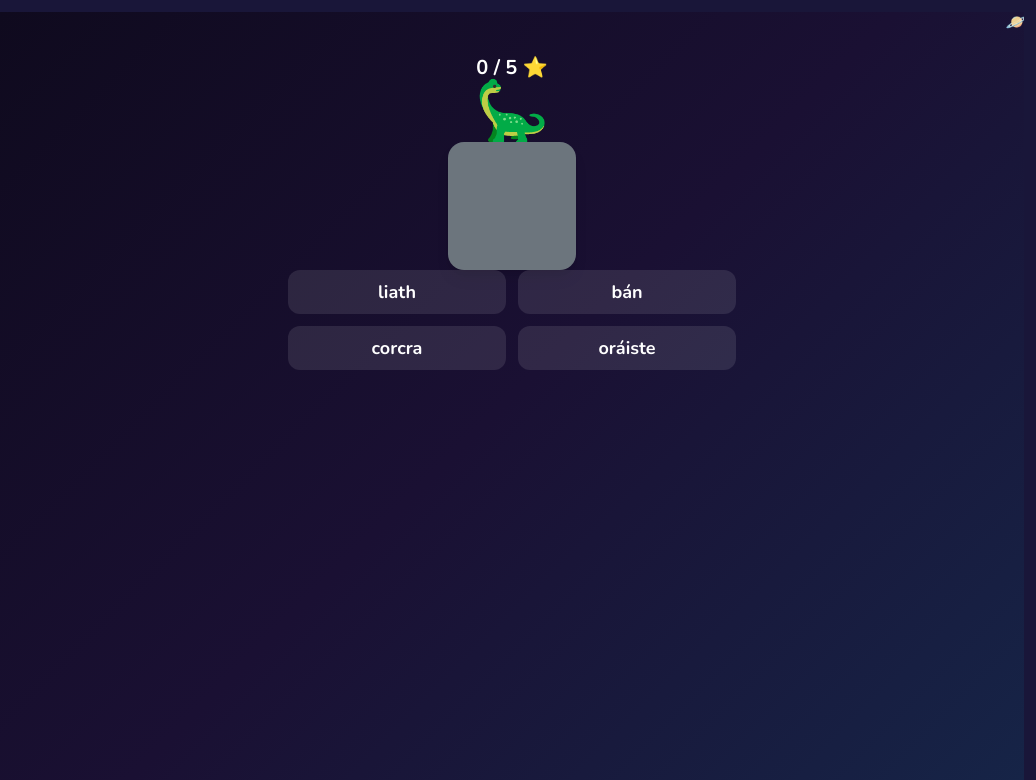
Test case: ColorMatch › Gameplay - wrong answer › shows "Triail arís!" when wrong answer is selected
Click the button "bán": point(627, 292) [518, 270, 736, 314]
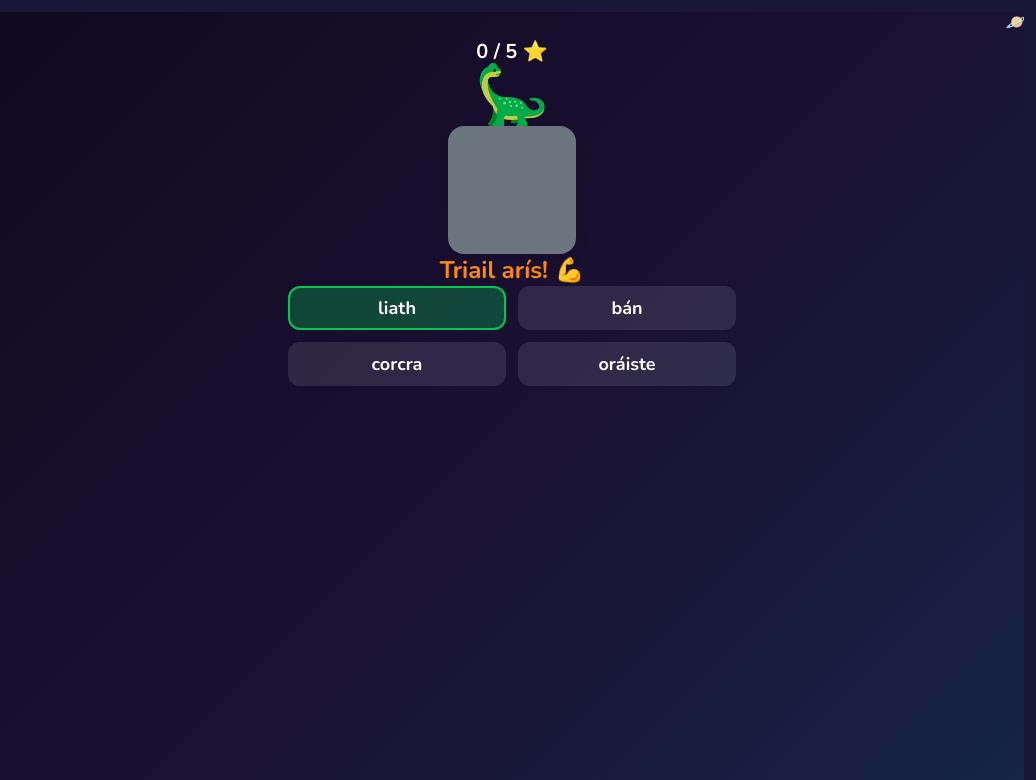
Expected: the text "Triail arís! 💪" is shown, [440, 254, 584, 286]
